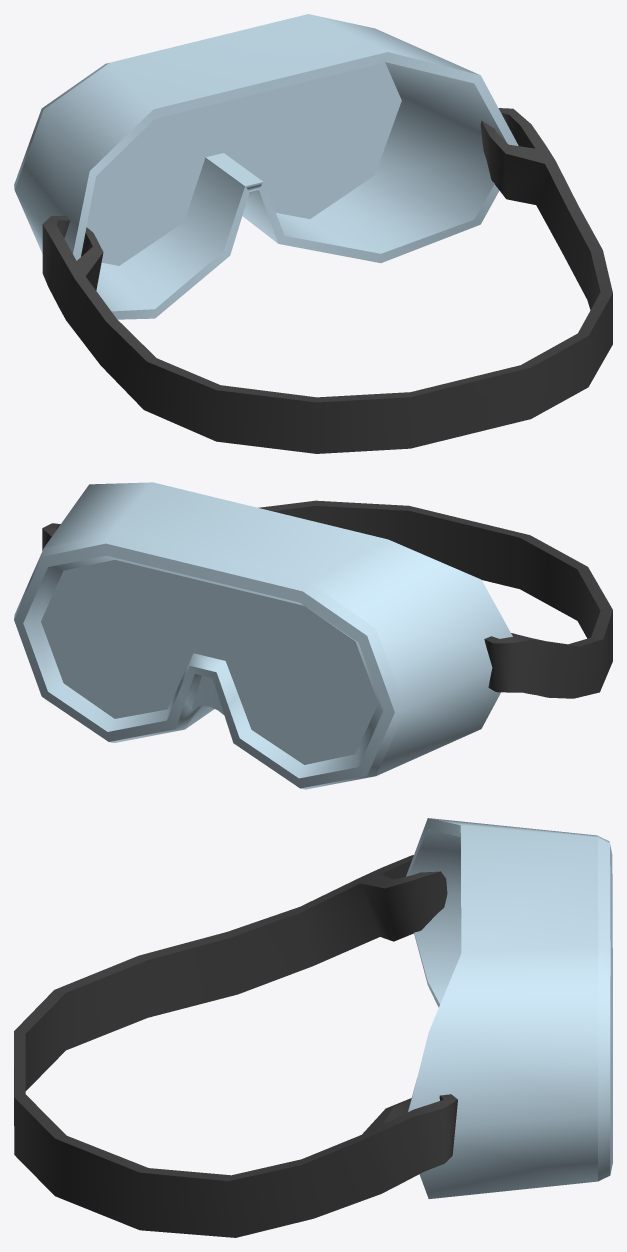
Rendered from IG_FackMask_Goggle.fbx.
The picture shows the model from 3 angles, top to bottom: view 1: azimuth 30°, elevation 25°; view 2: azimuth 150°, elevation 25°; view 3: azimuth 270°, elevation 25°; orthographic projection. The views are drawn at different scales.
Parts seen in each view (by area): view 1: Goggle; view 2: Goggle; view 3: Goggle.
Part boxes in pixels (<box>): Goggle: <box>14,14,612,453</box>; Goggle: <box>14,482,612,789</box>; Goggle: <box>14,818,612,1237</box>.
Size of the model in its own units: 0.5656 by 0.2379 by 0.5439.
